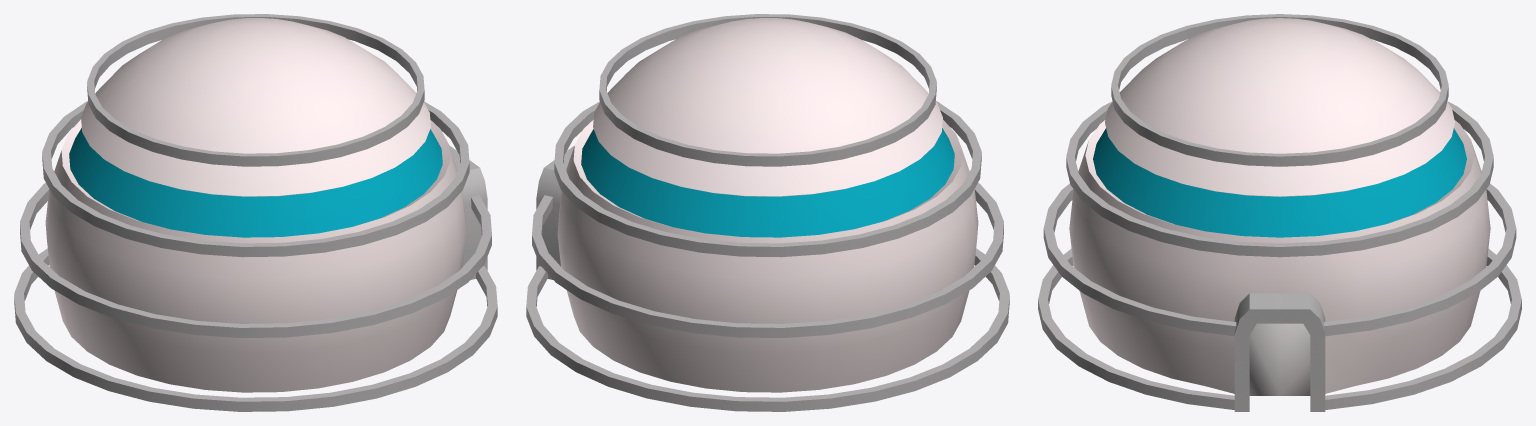
File: casa 6.fbx
3 views of the same model, side by side, from view 1: azimuth 30°, elevation 25°; view 2: azimuth 150°, elevation 25°; view 3: azimuth 270°, elevation 25° (orthographic).
Parts seen in each view (by area): view 1: Icosphere.009, Icosphere.004, Icosphere.010; view 2: Icosphere.009, Icosphere.004, Icosphere.010; view 3: Icosphere.009, Icosphere.004, Icosphere.010, Icosphere.006.
Part boxes in pixels (box(x1,y1,x2,y2)): Icosphere.009: box(45, 18, 466, 392); Icosphere.004: box(14, 14, 497, 411); Icosphere.010: box(449, 146, 487, 279); Icosphere.009: box(557, 18, 978, 392); Icosphere.004: box(526, 14, 1009, 411); Icosphere.010: box(536, 146, 574, 279); Icosphere.009: box(1069, 18, 1490, 393); Icosphere.004: box(1038, 14, 1521, 409); Icosphere.010: box(1234, 293, 1325, 411); Icosphere.006: box(1249, 323, 1310, 395).
Bounding box in the file's own units: 1411 × 879 × 1414.
Materials: 1 (1 with a texture image).
